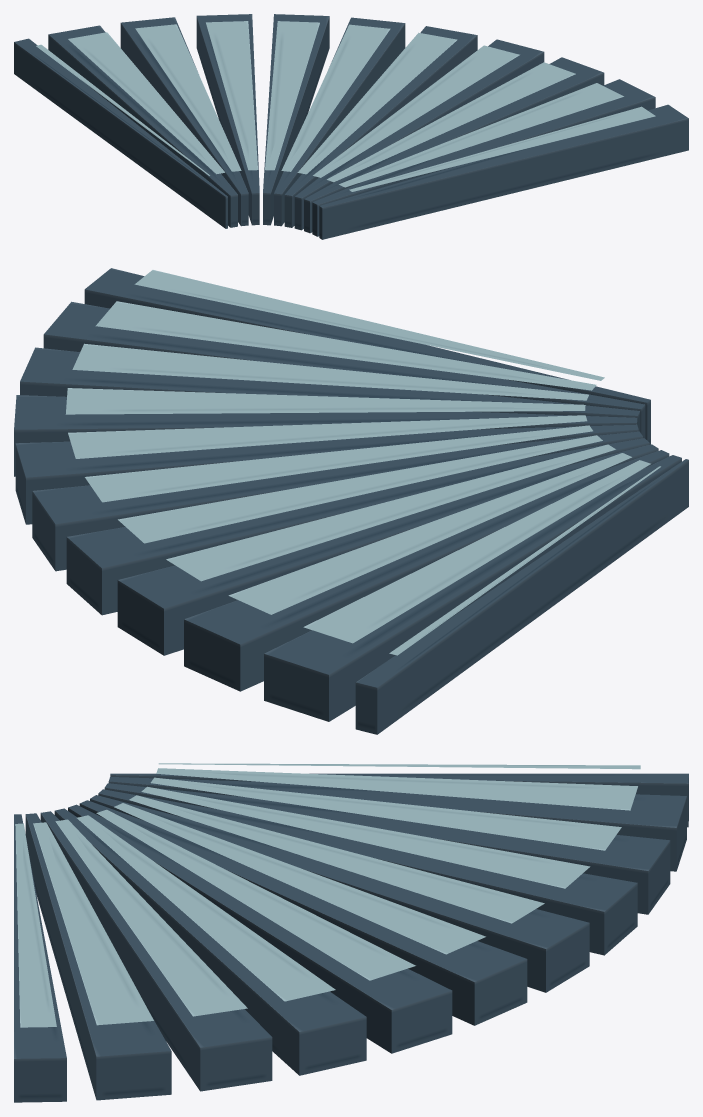
Rendered from sc_tread_curve_left_12.obj.
3 views of the same model, one above another, from view 1: azimuth 30°, elevation 25°; view 2: azimuth 150°, elevation 25°; view 3: azimuth 270°, elevation 25° (orthographic). The views are drawn at different scales.
Size of the model in its own units: 17.5 by 1.56 by 17.5.
1 material, 1 textured.
